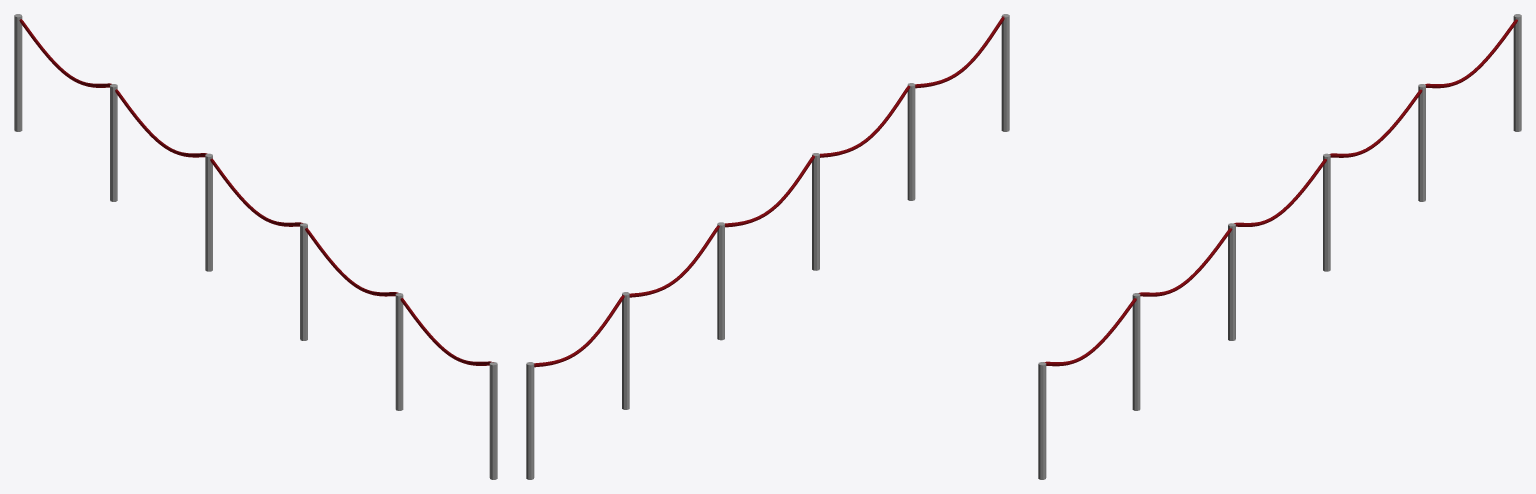
File: barreras rojas fbx.fbx
3 views of the same model, side by side, from view 1: azimuth 30°, elevation 25°; view 2: azimuth 150°, elevation 25°; view 3: azimuth 330°, elevation 25° (orthographic).
Parts seen in each view (by area): view 1: Base_CintaRoja.001; view 2: Base_CintaRoja.001; view 3: Base_CintaRoja.001.
Part boxes in pixels (box(x1,y1,x2,y2)): Base_CintaRoja.001: box(14, 14, 497, 479); Base_CintaRoja.001: box(526, 14, 1009, 479); Base_CintaRoja.001: box(1038, 14, 1521, 479).
Bounding box in the file's own units: 13.36 × 211 × 1592.
